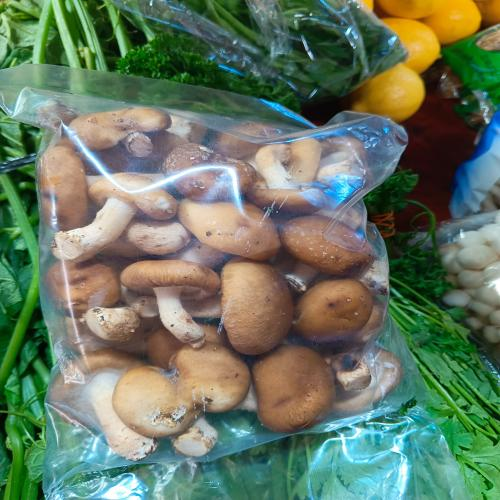Shiitake Mushroom: (41, 112, 388, 462)
